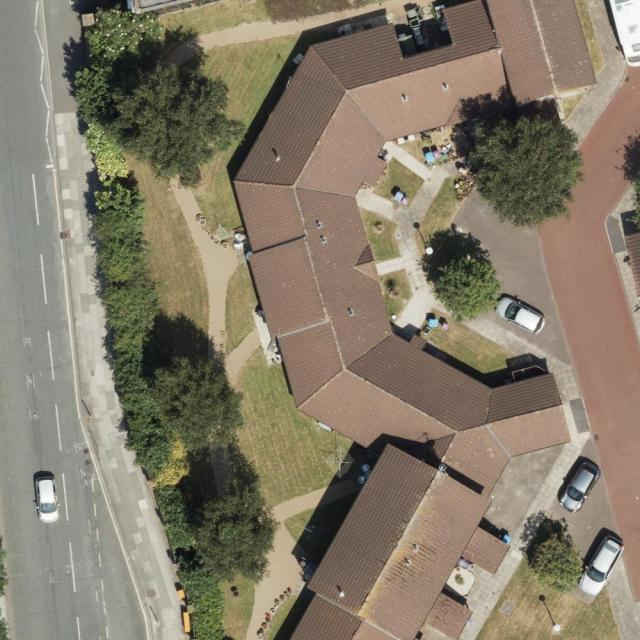roof: (232, 0, 598, 640), (625, 230, 640, 300)
